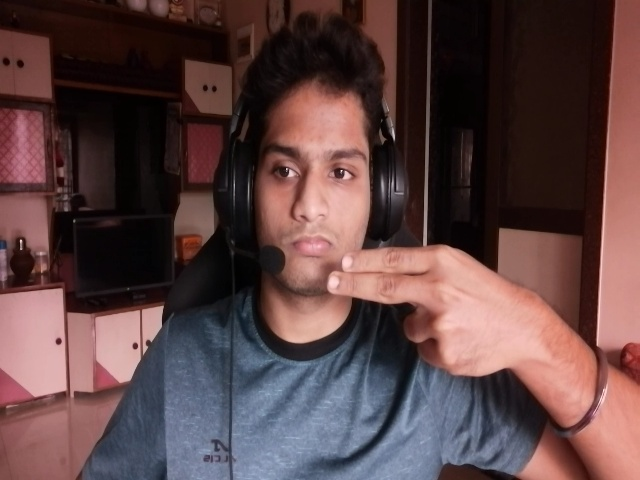H: (326, 243, 512, 377)
